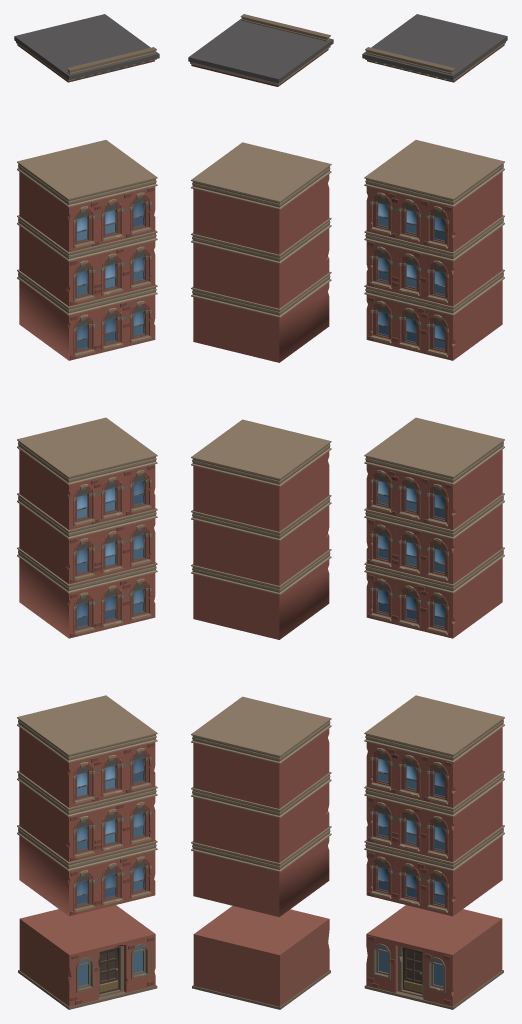
File: duplex.glb
3 views of the same model, side by side, from view 1: azimuth 30°, elevation 25°; view 2: azimuth 150°, elevation 25°; view 3: azimuth 330°, elevation 25° (orthographic).
Visible parts, largest first — view 1: Pent_Floor_1, Pent_Floor_2, Pent_Floor_0, Pent_Base, Pent_Roof; view 2: Pent_Floor_1, Pent_Floor_2, Pent_Floor_0, Pent_Base, Pent_Roof; view 3: Pent_Floor_1, Pent_Floor_2, Pent_Floor_0, Pent_Base, Pent_Roof.
Boxes of the visible parts, x1,y1,x2,y2 form: Pent_Floor_1: (17, 417, 157, 638); Pent_Floor_2: (17, 140, 157, 360); Pent_Floor_0: (17, 695, 157, 916); Pent_Base: (18, 905, 157, 1009); Pent_Roof: (14, 14, 159, 82); Pent_Floor_1: (191, 419, 331, 639); Pent_Floor_2: (191, 142, 331, 362); Pent_Floor_0: (191, 696, 331, 916); Pent_Base: (192, 906, 330, 1009); Pent_Roof: (188, 14, 333, 86); Pent_Floor_1: (364, 417, 504, 638); Pent_Floor_2: (364, 140, 504, 360); Pent_Floor_0: (364, 695, 504, 916); Pent_Base: (364, 905, 503, 1009); Pent_Roof: (362, 14, 507, 82).
Size of what is drawn, in the model's own units: 1.82 by 18 by 1.9.
1 material, 1 textured.
